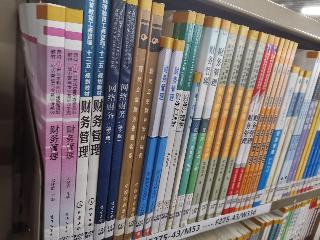book-spine: (169, 17, 222, 231), (156, 12, 207, 234), (211, 32, 270, 218), (187, 22, 240, 227), (149, 10, 197, 235), (196, 25, 250, 224), (204, 29, 260, 220), (121, 3, 166, 240), (180, 20, 231, 228), (221, 34, 276, 217), (99, 1, 141, 240), (88, 1, 128, 240), (112, 1, 152, 240), (229, 36, 281, 214), (129, 37, 174, 240), (140, 39, 186, 237), (247, 41, 300, 208), (239, 40, 291, 210), (243, 41, 295, 211), (234, 38, 284, 212), (81, 1, 111, 240), (251, 65, 301, 208), (71, 1, 99, 240), (56, 7, 84, 240), (260, 70, 307, 205), (265, 70, 312, 204), (165, 72, 202, 232), (40, 4, 65, 240)
